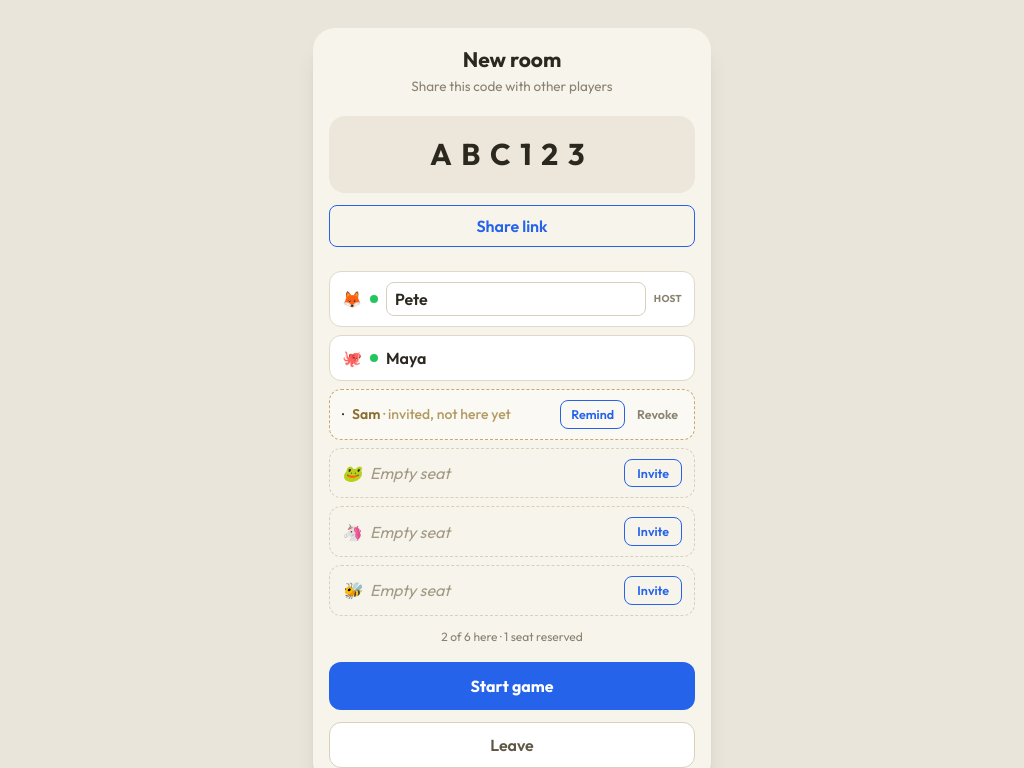
Test: the invite picker › opens from an empty seat, lists contacts with their states, and invites
Click the 1st button "Invite": x=653, y=473 [624,458,682,487]
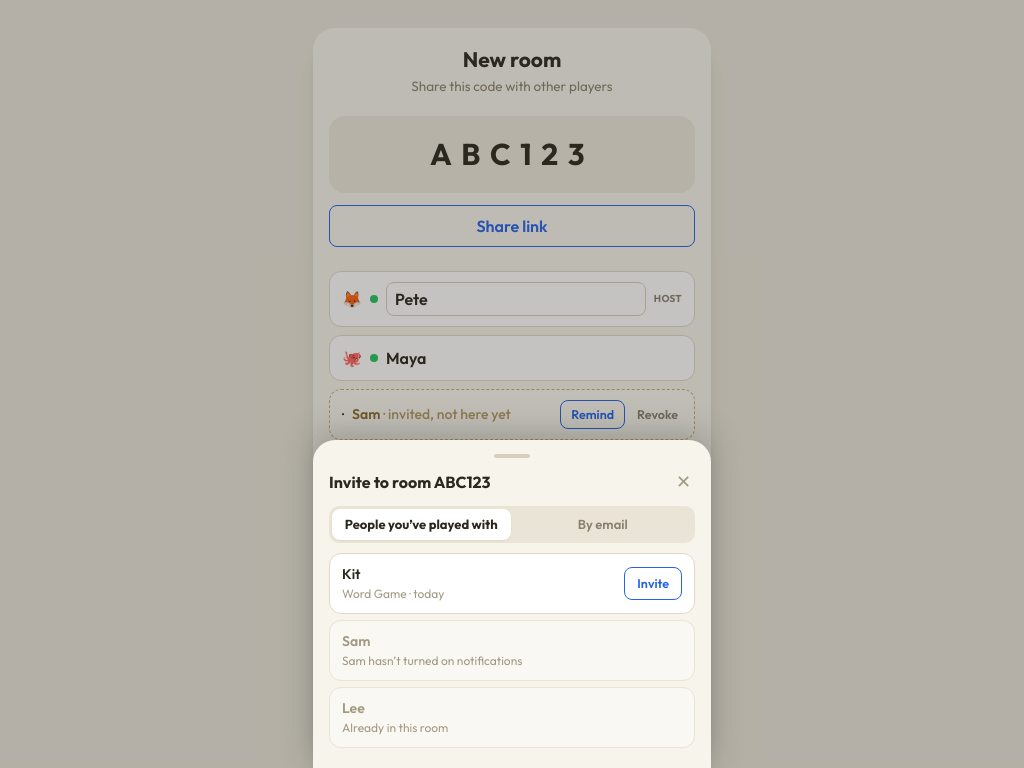
Expected: the dialog "Invite to room ABC123" is shown, [313,440,711,767]
Expected: the text "Kit" is shown, [342,565,361,583]
Expected: the text "Sam hasn’t turned on notifications" is shown, [342,653,522,668]
Click the button "Invite": x=653, y=584 [624,567,682,600]
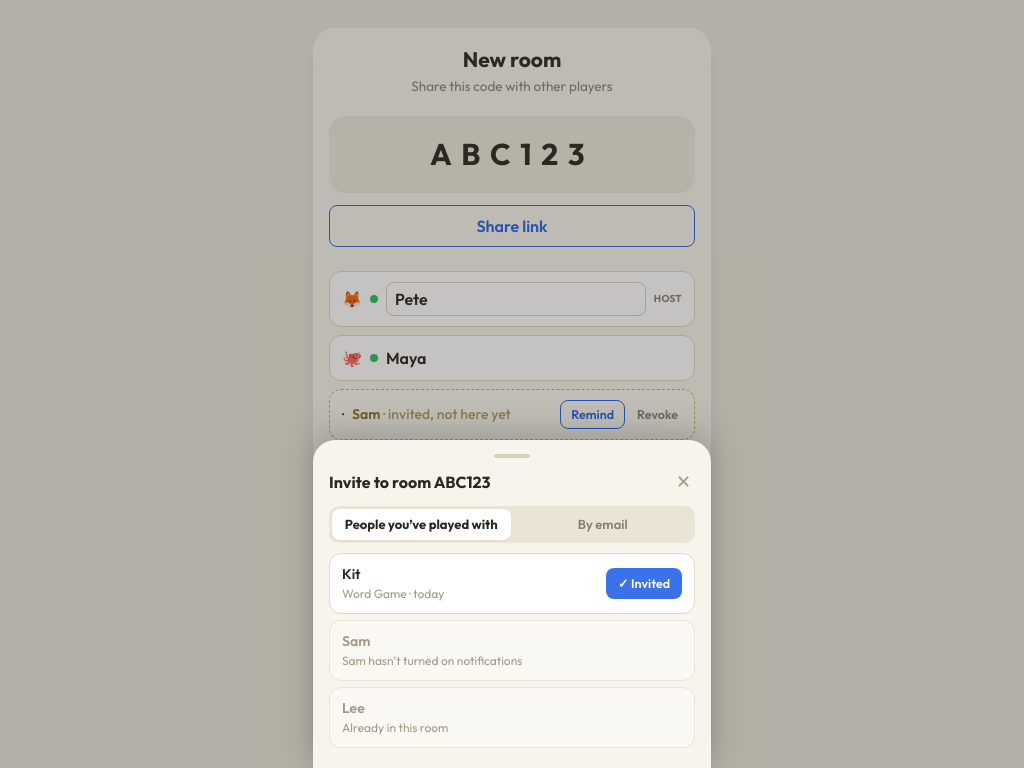
Expected: the button "✓ Invited" is shown, [606,568,682,599]
